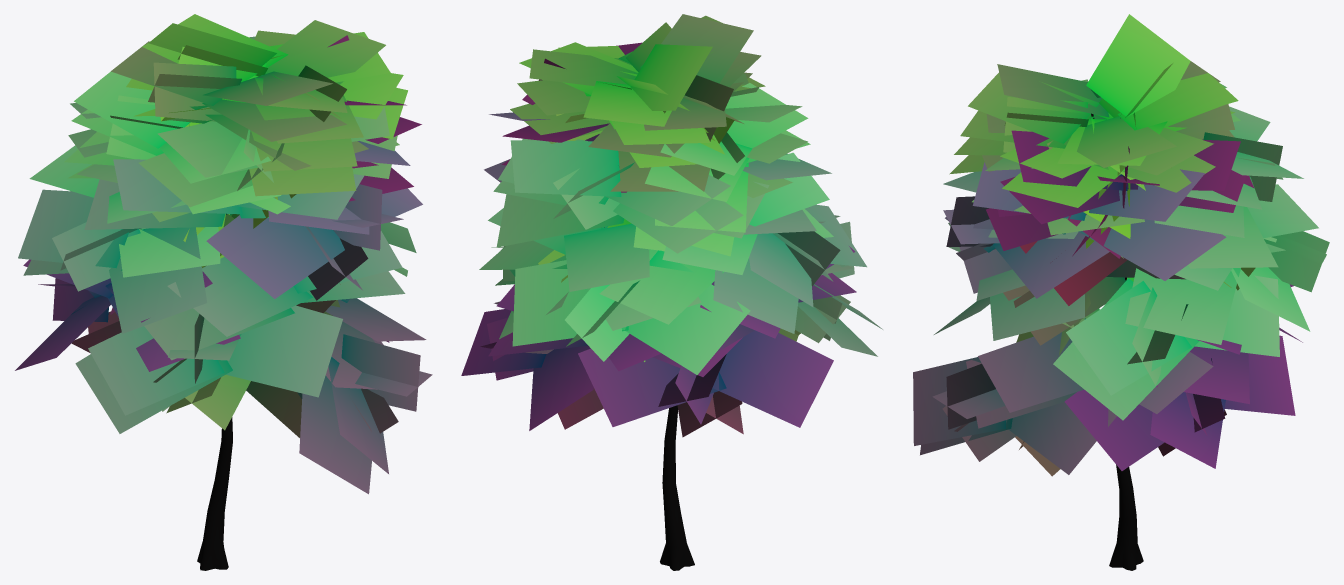
The model's file is Tree_1_7.fbx.
The picture shows the model from 3 angles, left to right: view 1: azimuth 30°, elevation 25°; view 2: azimuth 150°, elevation 25°; view 3: azimuth 270°, elevation 25°; orthographic projection. The views are drawn at different scales.
Visible parts, largest first — view 1: _7; view 2: _7; view 3: _7.
Part boxes in pixels (box(x1,y1,x2,y2)): _7: box(15, 14, 432, 570); _7: box(461, 14, 882, 570); _7: box(913, 14, 1329, 570).
Size of the model in its own units: 1062 by 1530 by 1088.
